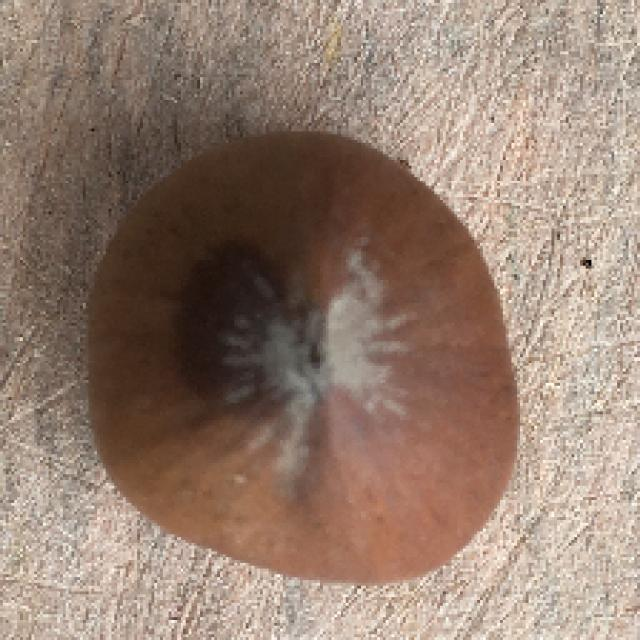DamagedHazelnut: (86, 125, 523, 583)
